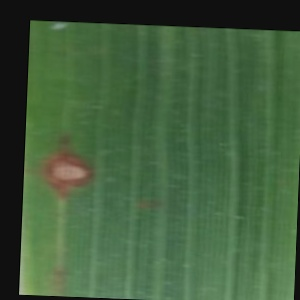Brown_Spot: (34, 128, 123, 222)
